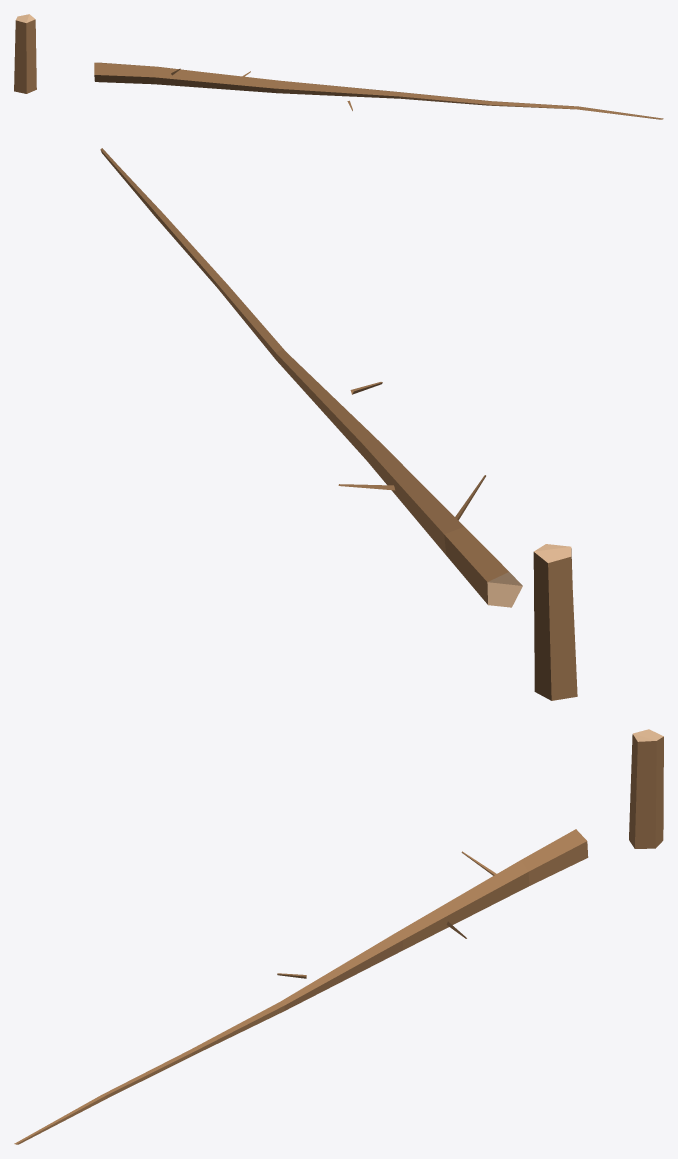
File: Pine_Tree_NoLeaves_crk_l_BT_09.fbx
3 renders of one model, top to bottom at view 1: azimuth 30°, elevation 25°; view 2: azimuth 150°, elevation 25°; view 3: azimuth 270°, elevation 25°, orthographic. The views are drawn at different scales.
Visible parts, largest first — view 1: Pine_Tree_NoLeaves_crk_l_BT_09; view 2: Pine_Tree_NoLeaves_crk_l_BT_09; view 3: Pine_Tree_NoLeaves_crk_l_BT_09.
Part boxes in pixels (x1=…): Pine_Tree_NoLeaves_crk_l_BT_09: x1=14, y1=14, x2=663, y2=119; Pine_Tree_NoLeaves_crk_l_BT_09: x1=100, y1=148, x2=577, y2=700; Pine_Tree_NoLeaves_crk_l_BT_09: x1=14, y1=729, x2=663, y2=1144.
Size of the model in its own units: 1519 by 230 by 1255.
